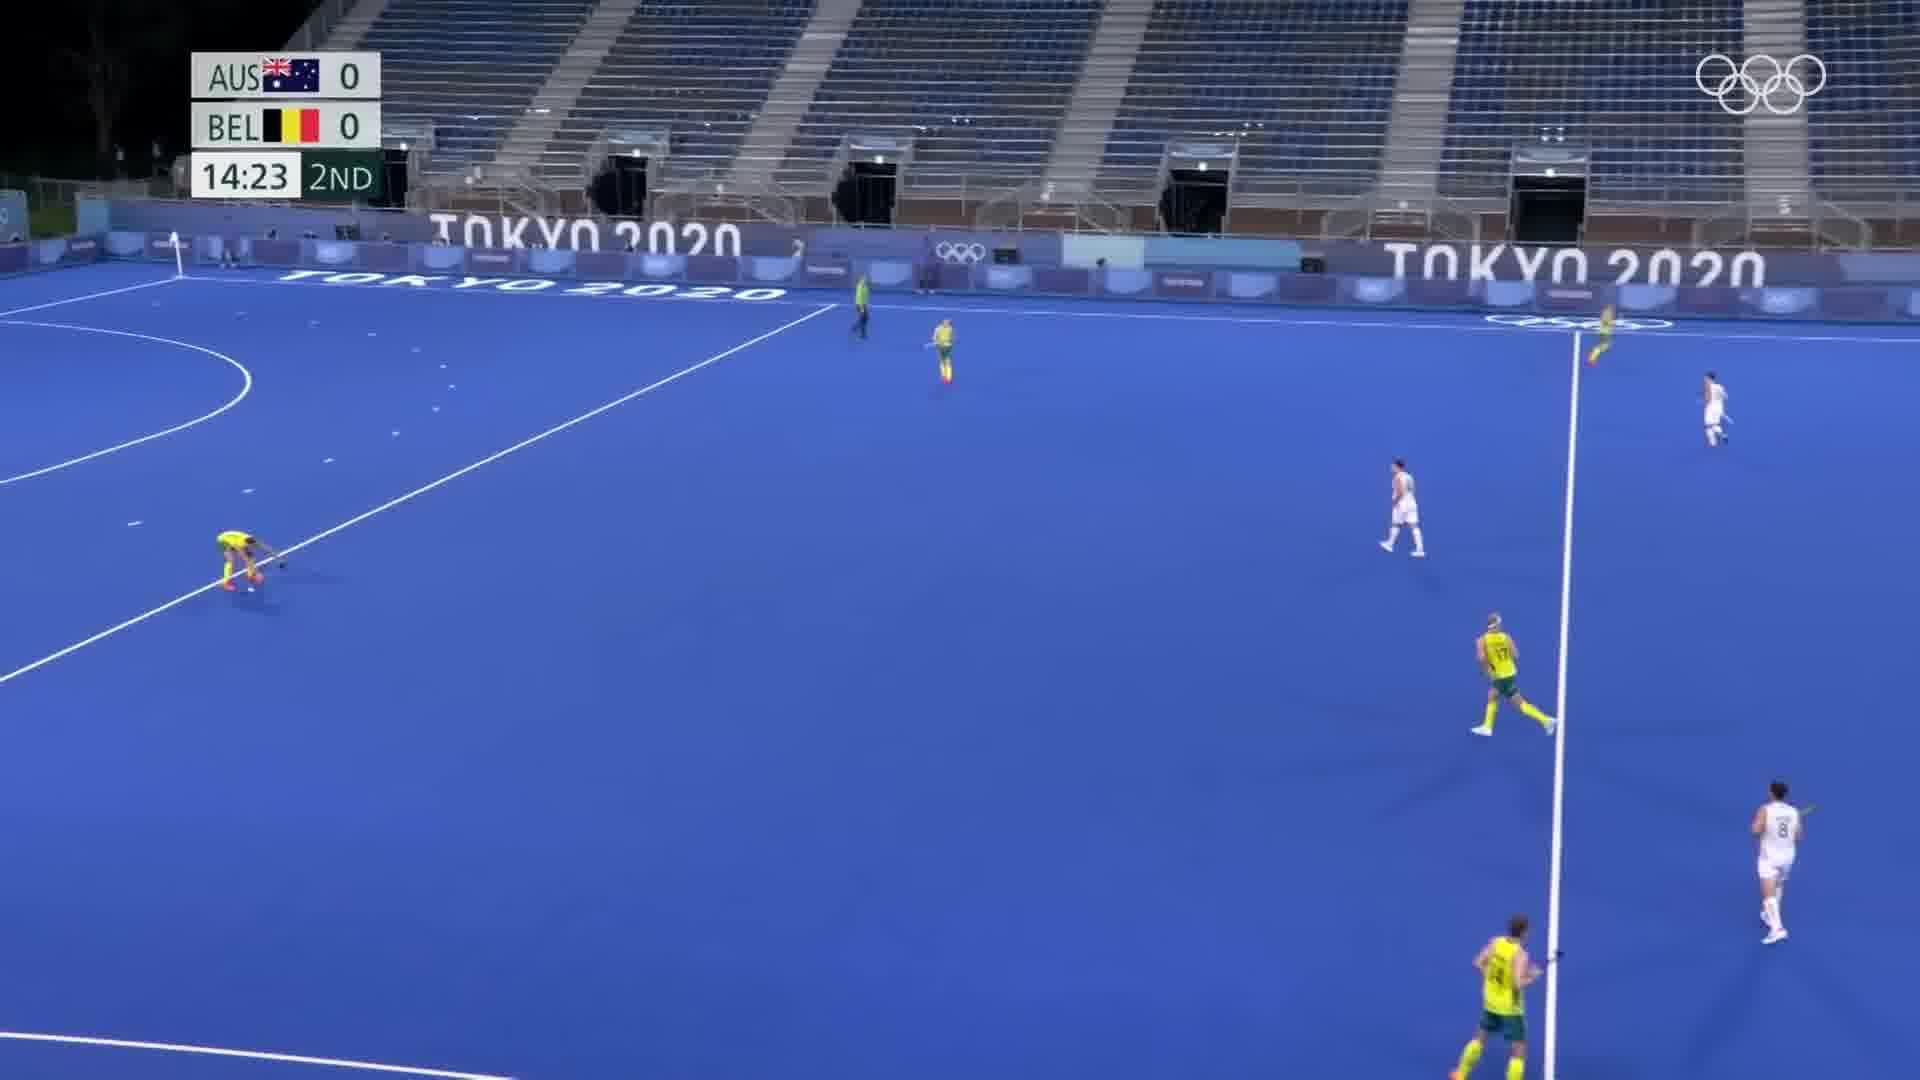ball: (245, 582, 254, 598)
